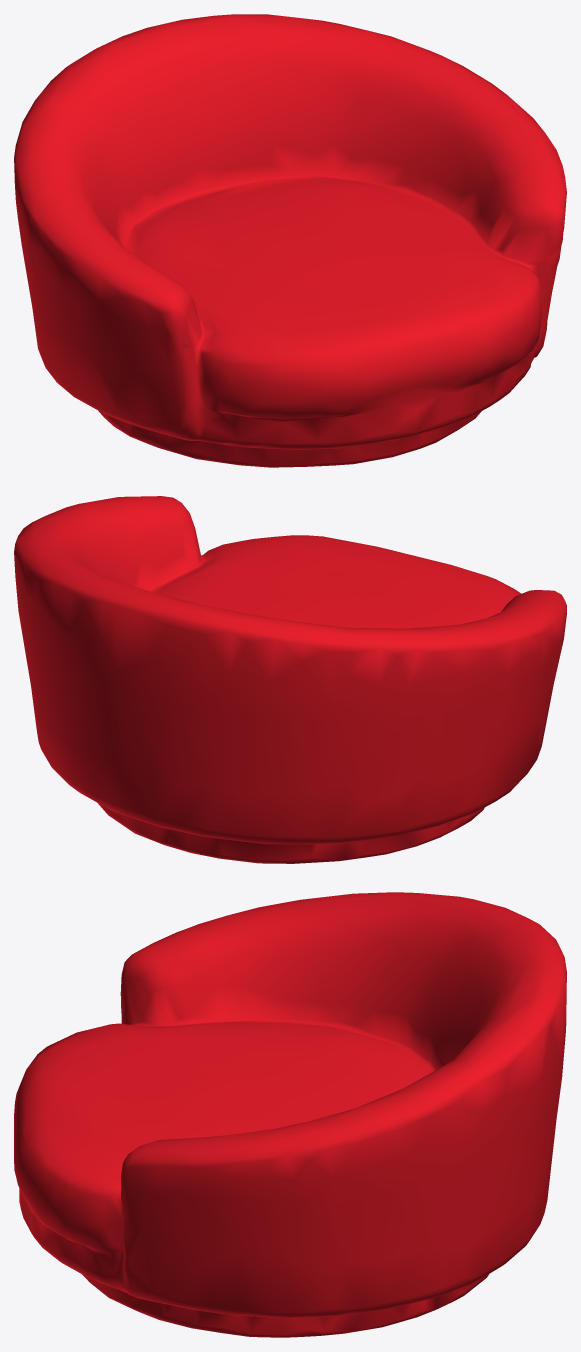
Rendered from chaise_4.glb.
3 views of the same model, one above another, from view 1: azimuth 30°, elevation 25°; view 2: azimuth 150°, elevation 25°; view 3: azimuth 270°, elevation 25° (orthographic). The views are drawn at different scales.
Visible parts, largest first — view 1: Mesh_0; view 2: Mesh_0; view 3: Mesh_0.
Boxes of the visible parts, x1,y1,x2,y2 form: Mesh_0: (14,14,566,467); Mesh_0: (14,496,566,863); Mesh_0: (14,892,566,1337).
Size of the model in its own units: 2 by 1.05 by 1.86.
